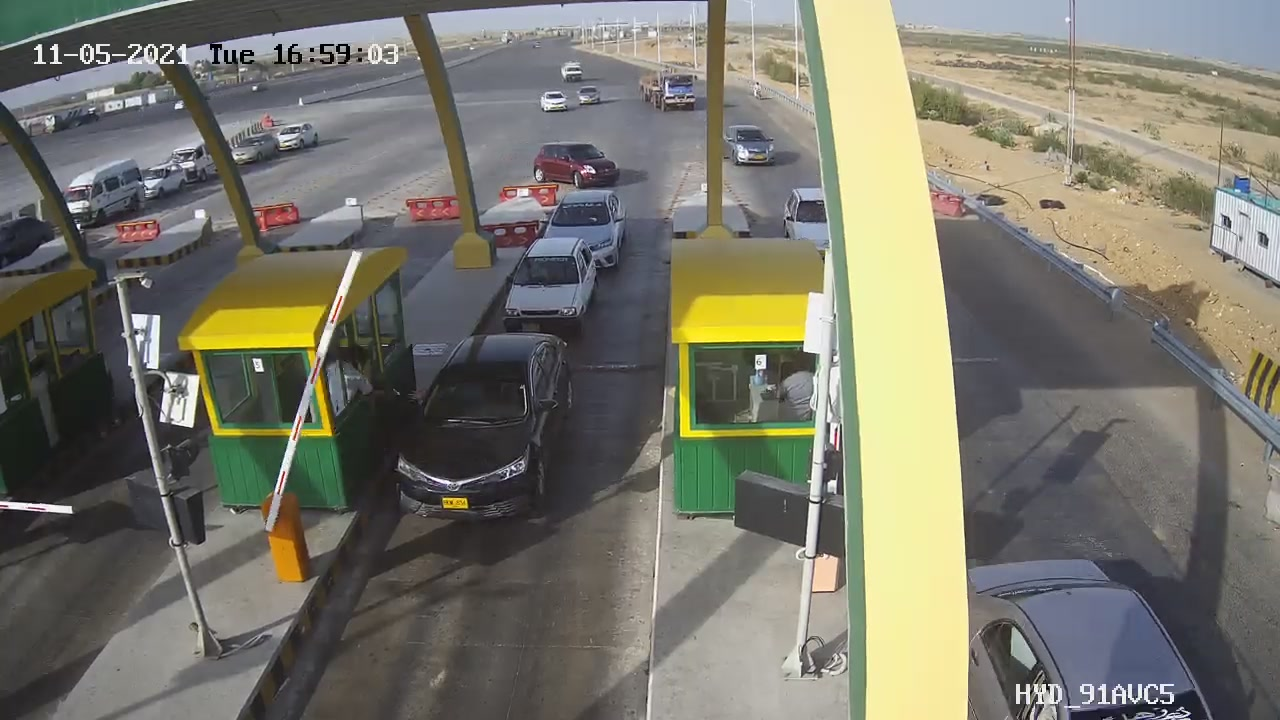F1: (374, 323, 593, 551), (483, 223, 611, 347)
